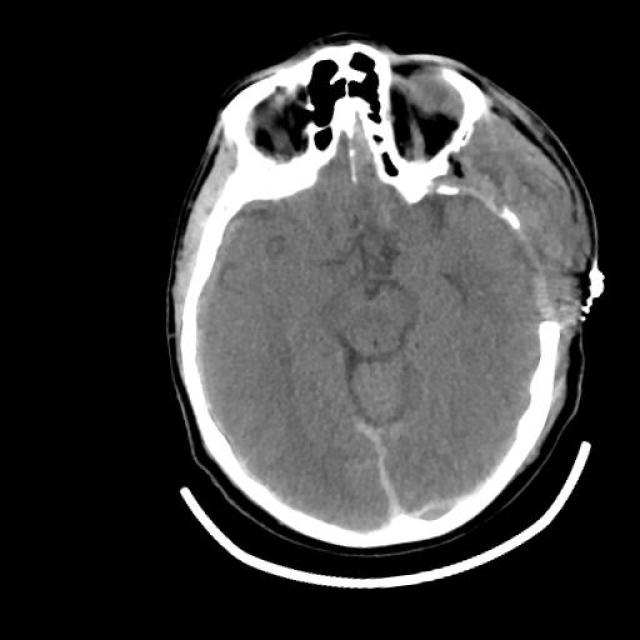Subdural: (317, 412, 438, 549)
